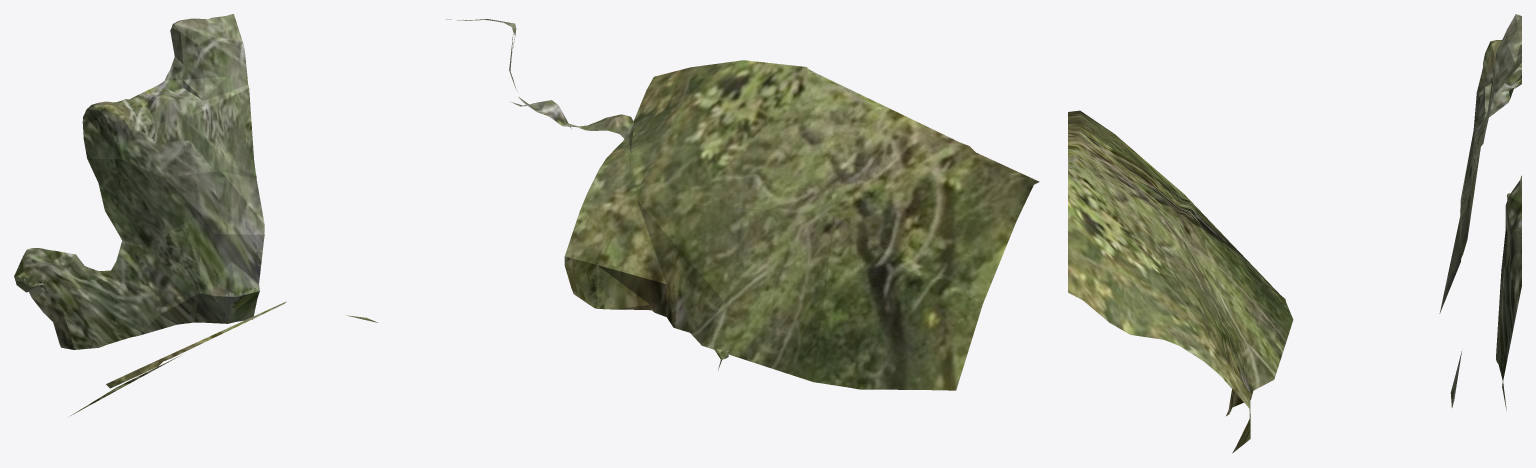
The picture shows the model from 3 angles, left to right: view 1: azimuth 30°, elevation 25°; view 2: azimuth 150°, elevation 25°; view 3: azimuth 270°, elevation 25°; orthographic projection. The views are drawn at different scales.
Bounding box in the file's own units: 2.95 × 2.87 × 2.95.
3 materials, 3 textured.
